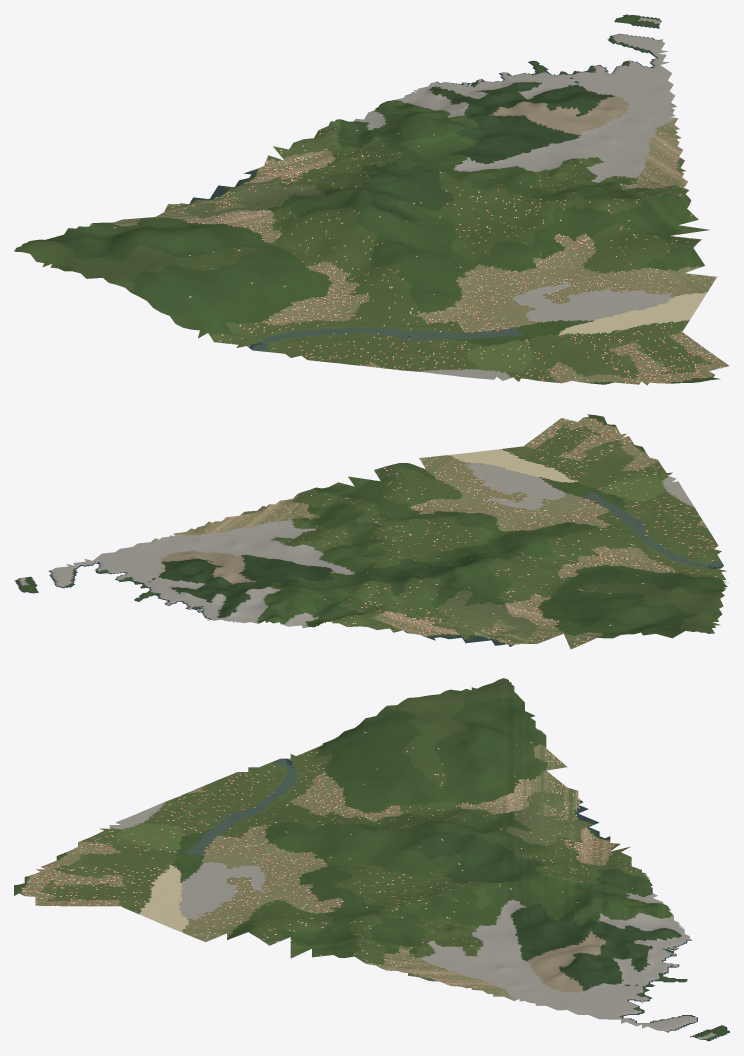
The model's file is SM_Fondale_Colline_E.fbx.
The picture shows the model from 3 angles, top to bottom: view 1: azimuth 30°, elevation 25°; view 2: azimuth 150°, elevation 25°; view 3: azimuth 270°, elevation 25°; orthographic projection. The views are drawn at different scales.
Visible parts, largest first — view 1: SM_Fondale_Colline_E; view 2: SM_Fondale_Colline_E; view 3: SM_Fondale_Colline_E.
Part boxes in pixels (box(x1,y1,x2,y2)): SM_Fondale_Colline_E: box(14, 14, 729, 385); SM_Fondale_Colline_E: box(14, 414, 728, 649); SM_Fondale_Colline_E: box(14, 678, 729, 1041).
Bounding box in the file's own units: 885000 × 807000 × 41855.
1 material, 1 textured.
